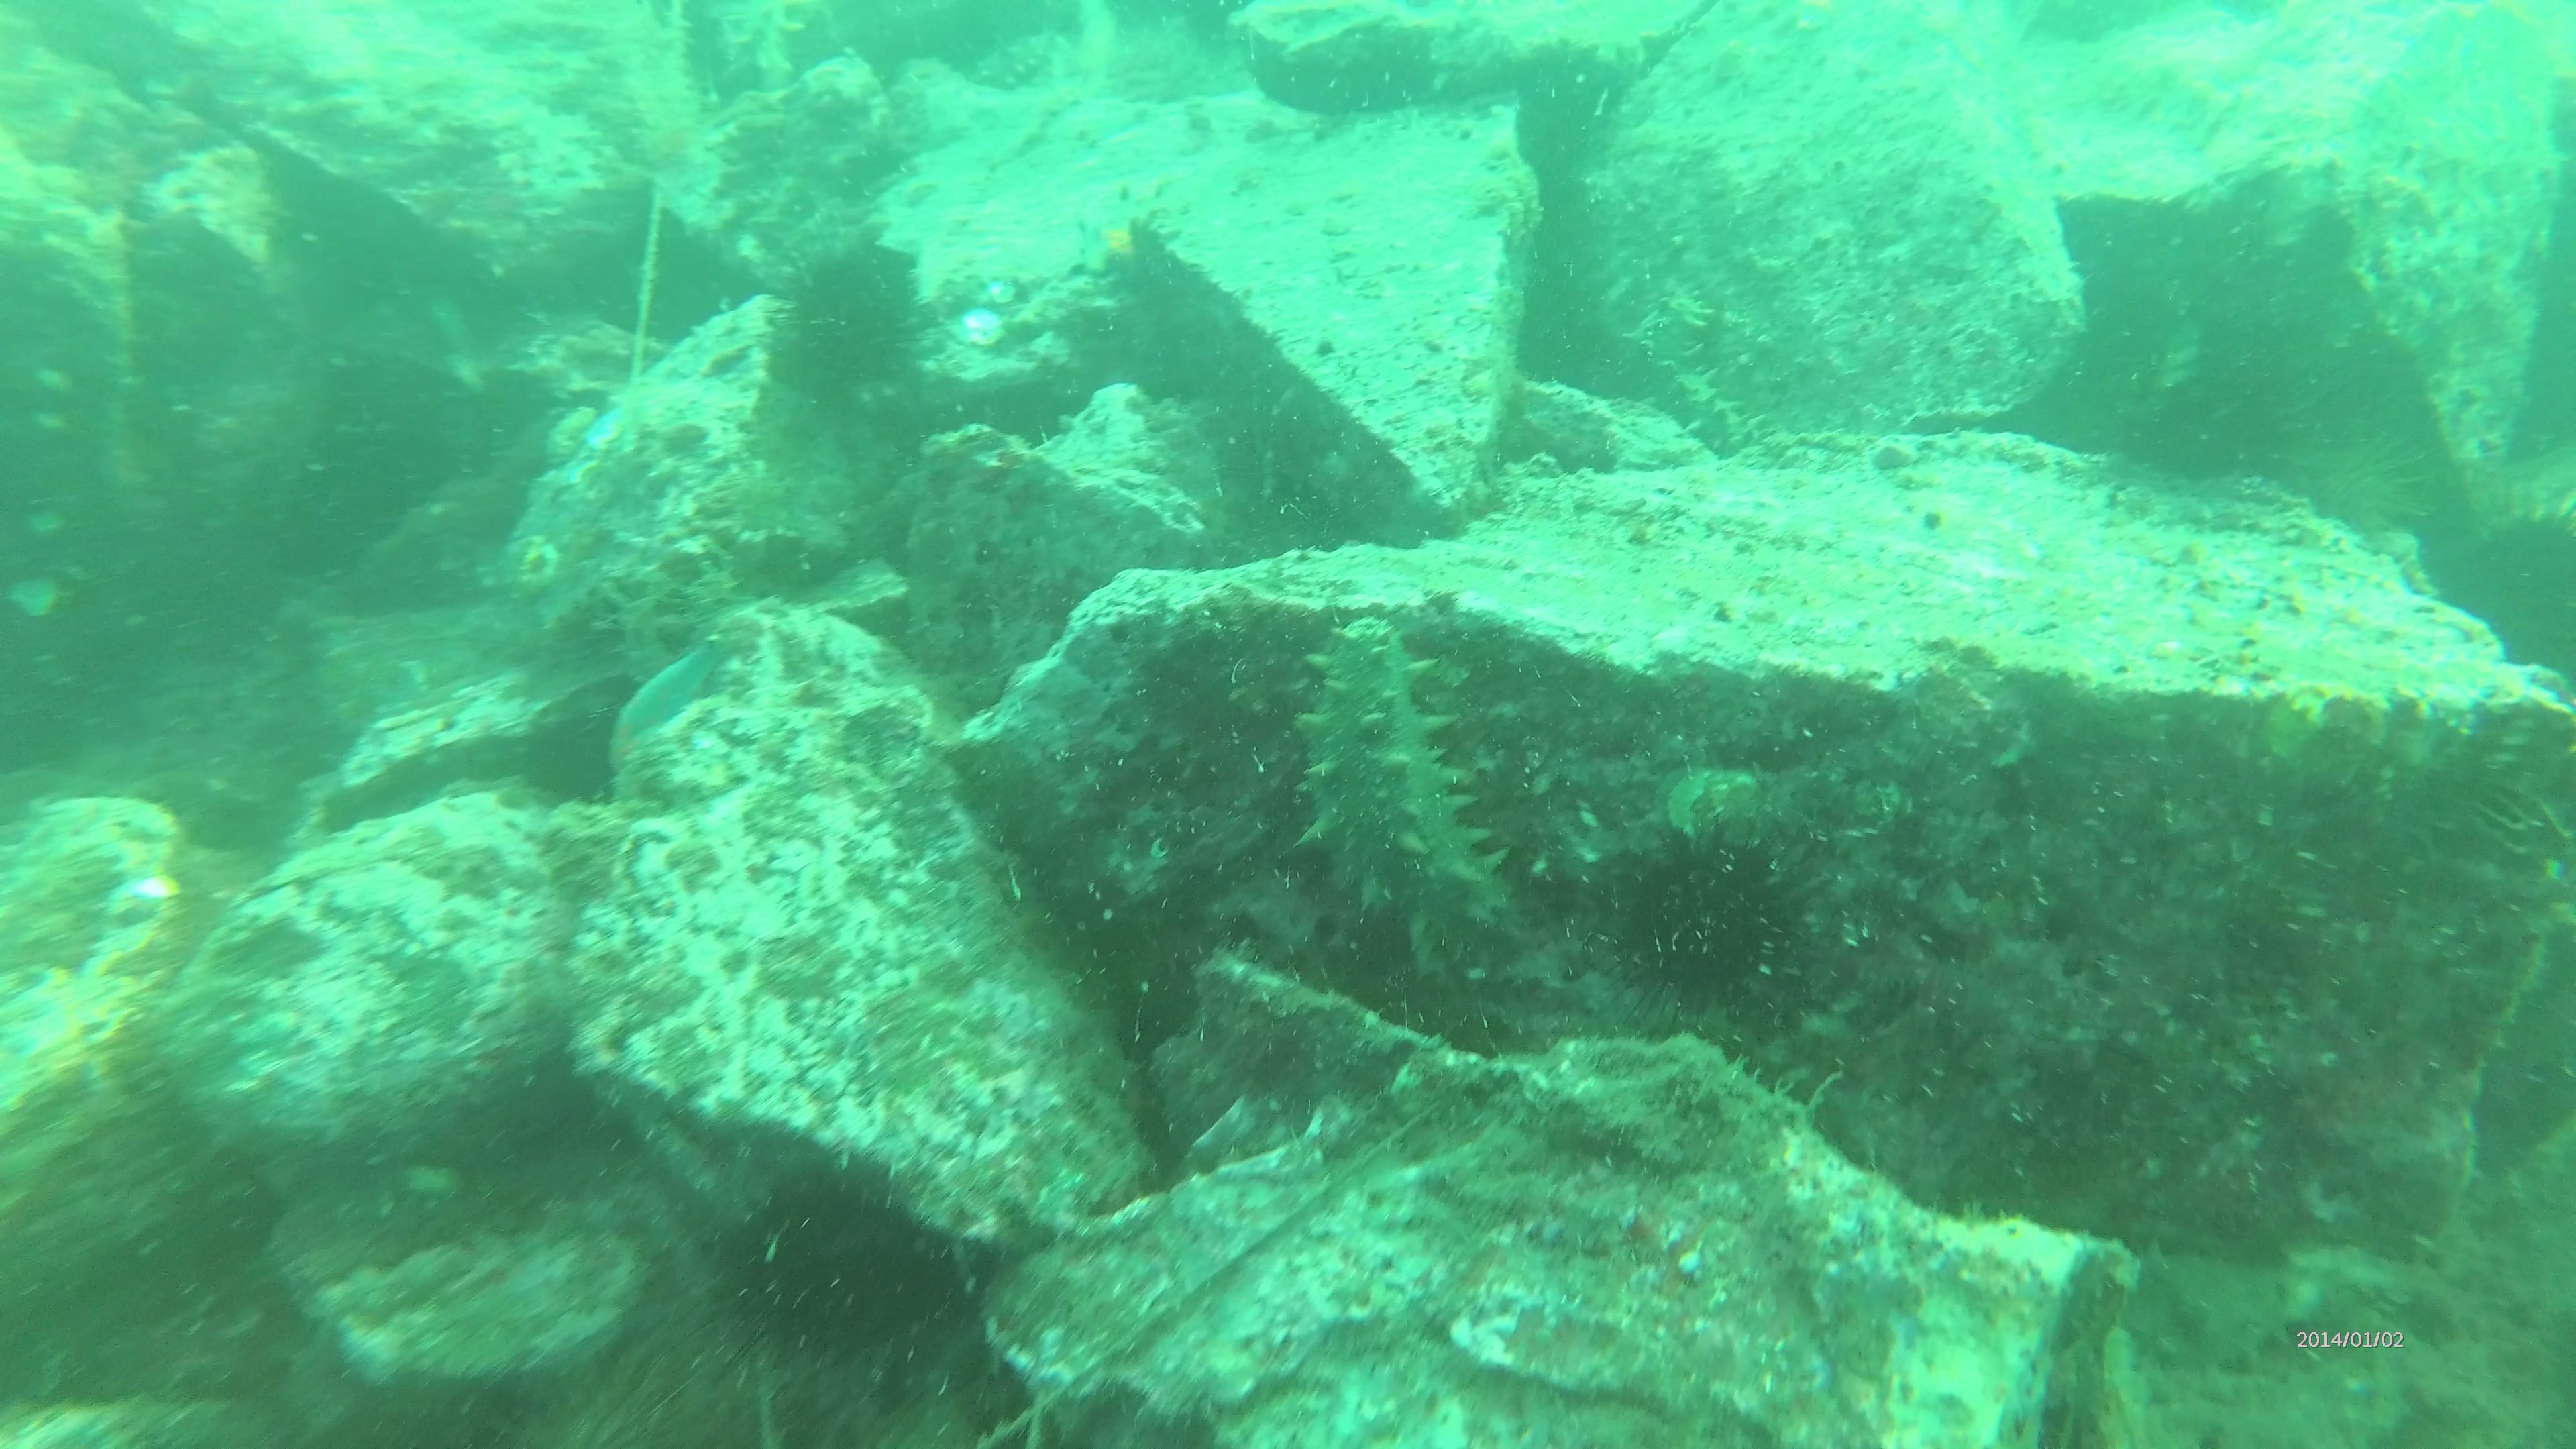echinus: (720, 1180, 966, 1369), (1598, 833, 1821, 1024), (743, 239, 922, 410)
holothurian: (1281, 616, 1546, 985), (1624, 295, 1755, 465), (706, 0, 810, 94)
starfish: (603, 621, 725, 773), (1060, 180, 1154, 283), (934, 306, 1021, 356)
